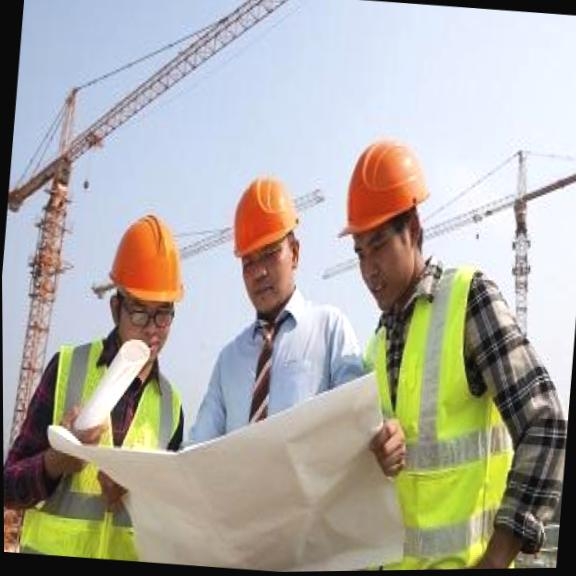safety_vest: (354, 288, 507, 571), (30, 341, 170, 565)
